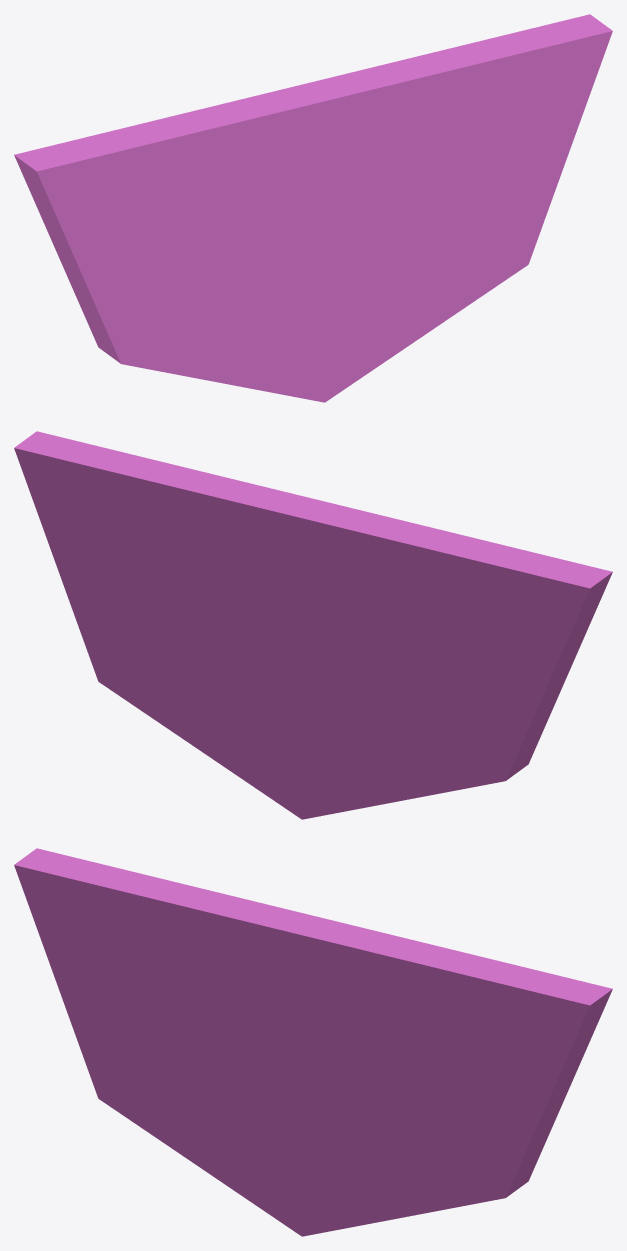
The model's file is half wall.fbx.
The picture shows the model from 3 angles, top to bottom: view 1: azimuth 30°, elevation 25°; view 2: azimuth 150°, elevation 25°; view 3: azimuth 330°, elevation 25°; orthographic projection.
Visible parts, largest first — view 1: half wall; view 2: half wall; view 3: half wall.
Boxes of the visible parts, x1,y1,x2,y2 form: half wall: (14, 14, 612, 402); half wall: (14, 431, 612, 819); half wall: (14, 848, 612, 1236).
Size of the model in its own units: 5.58 by 2.79 by 0.3829.
